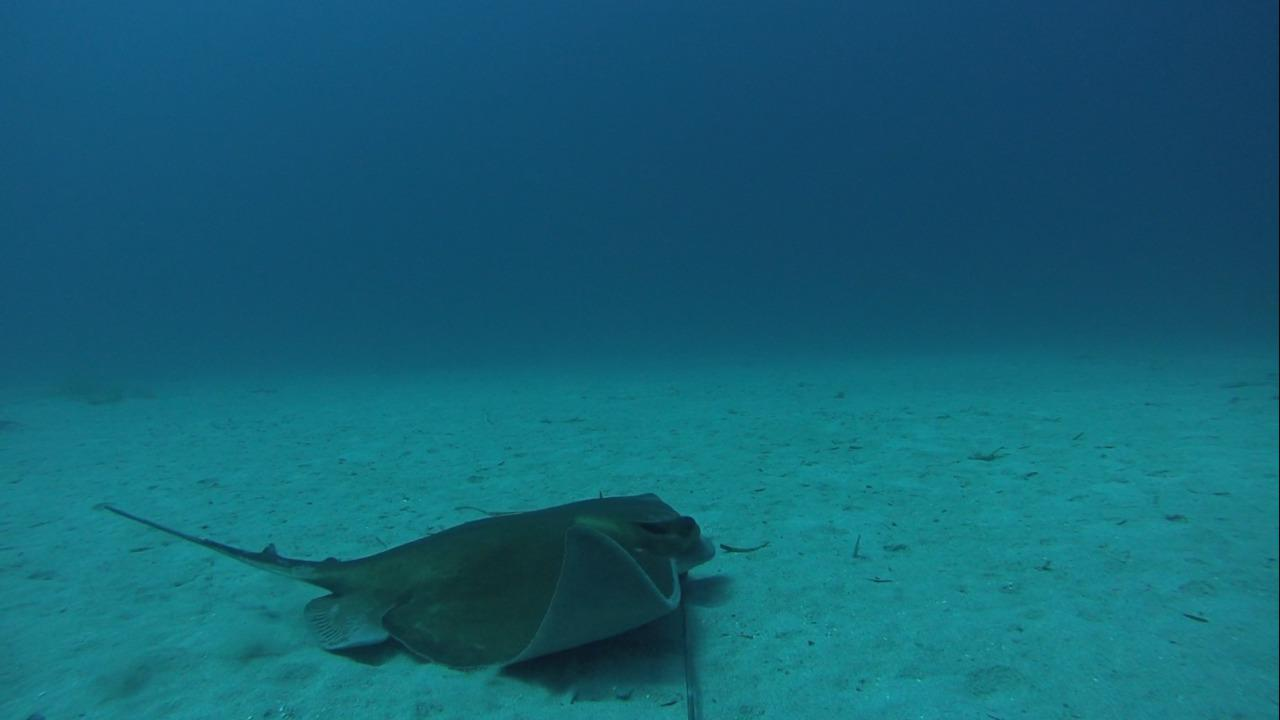myliobatis: (94, 489, 711, 685)
